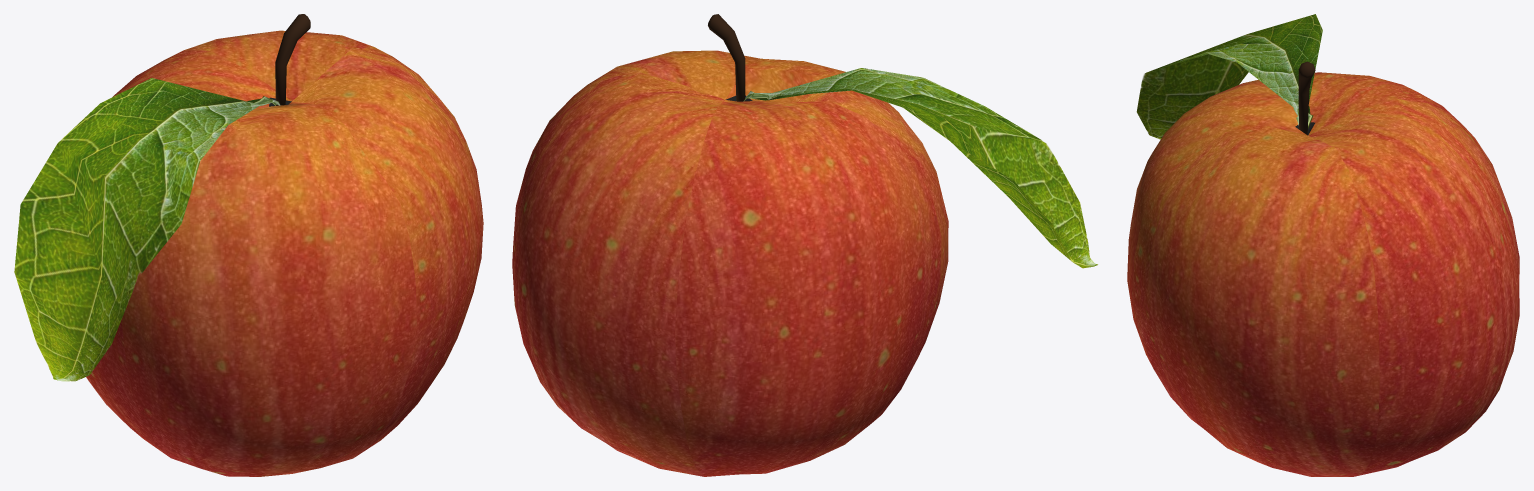
File: Apple.glb
3 renders of one model, left to right at view 1: azimuth 30°, elevation 25°; view 2: azimuth 150°, elevation 25°; view 3: azimuth 270°, elevation 25°, orthographic. The views are drawn at different scales.
Parts seen in each view (by area): view 1: Apple, Plane, stick; view 2: Apple, Plane, stick; view 3: Apple, Plane, stick.
Part boxes in pixels (x1,y1,x2,y2): Apple: [86, 30, 483, 476]; Plane: [14, 78, 280, 381]; stick: [275, 14, 310, 105]; Apple: [512, 50, 948, 476]; Plane: [743, 68, 1097, 268]; stick: [708, 14, 745, 101]; Apple: [1127, 72, 1519, 476]; Plane: [1136, 14, 1322, 139]; stick: [1298, 61, 1315, 134].
Size of the model in its own units: 0.2839 by 0.2441 by 0.2153.
4 materials, 2 textured.
